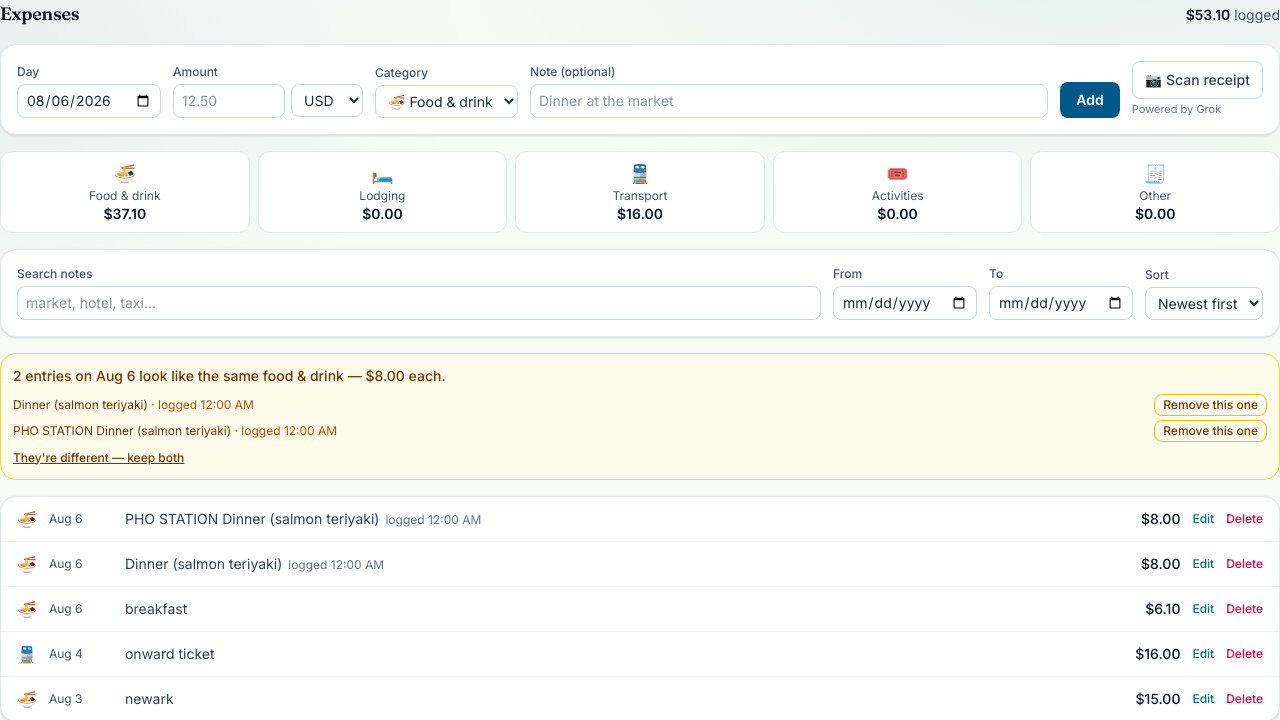
acting on a repeat › stops warning once the group is gone
Click the 2nd button "Remove this one" at (1211, 430), box [1154,420,1267,442]
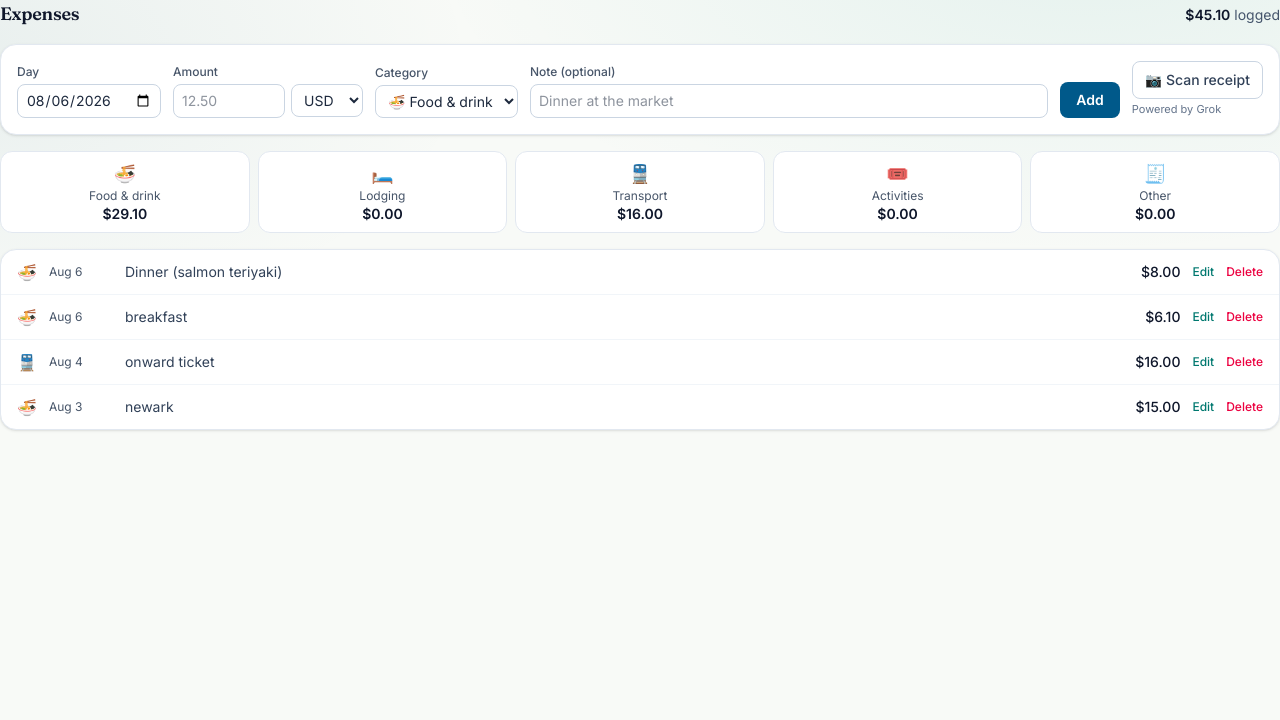
Now the text "look like the same" is gone
